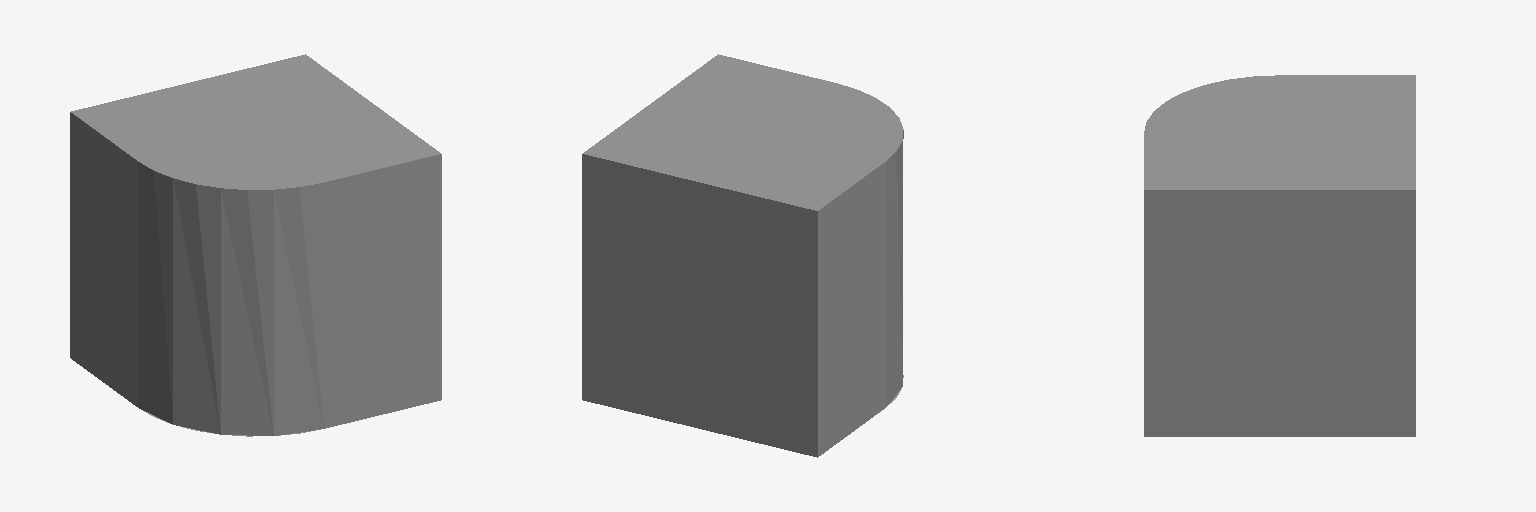
File: corner.obj
3 views of the same model, side by side, from view 1: azimuth 30°, elevation 25°; view 2: azimuth 150°, elevation 25°; view 3: azimuth 270°, elevation 25° (orthographic).
Parts seen in each view (by area): view 1: Cylinder_Cylinder.001; view 2: Cylinder_Cylinder.001; view 3: Cylinder_Cylinder.001.
Boxes of the visible parts, x1=… form: Cylinder_Cylinder.001: x1=70, y1=54, x2=441, y2=436; Cylinder_Cylinder.001: x1=582, y1=54, x2=903, y2=457; Cylinder_Cylinder.001: x1=1144, y1=75, x2=1415, y2=436.
Size of the model in its own units: 2 by 2 by 2.